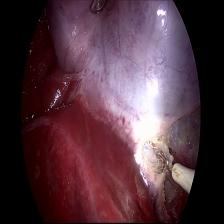Grasper: (88, 0, 114, 22)
Hook: (146, 135, 200, 206)
